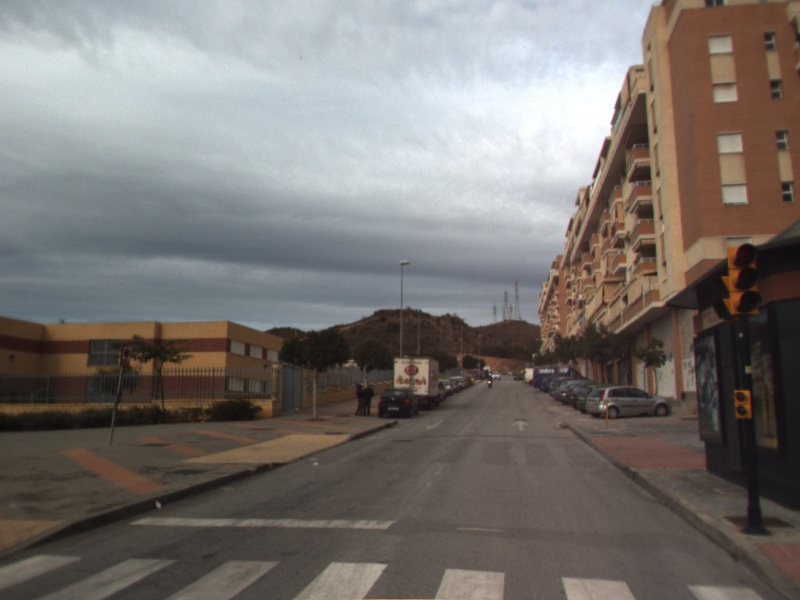STRAIGHT: (510, 418, 531, 432)
